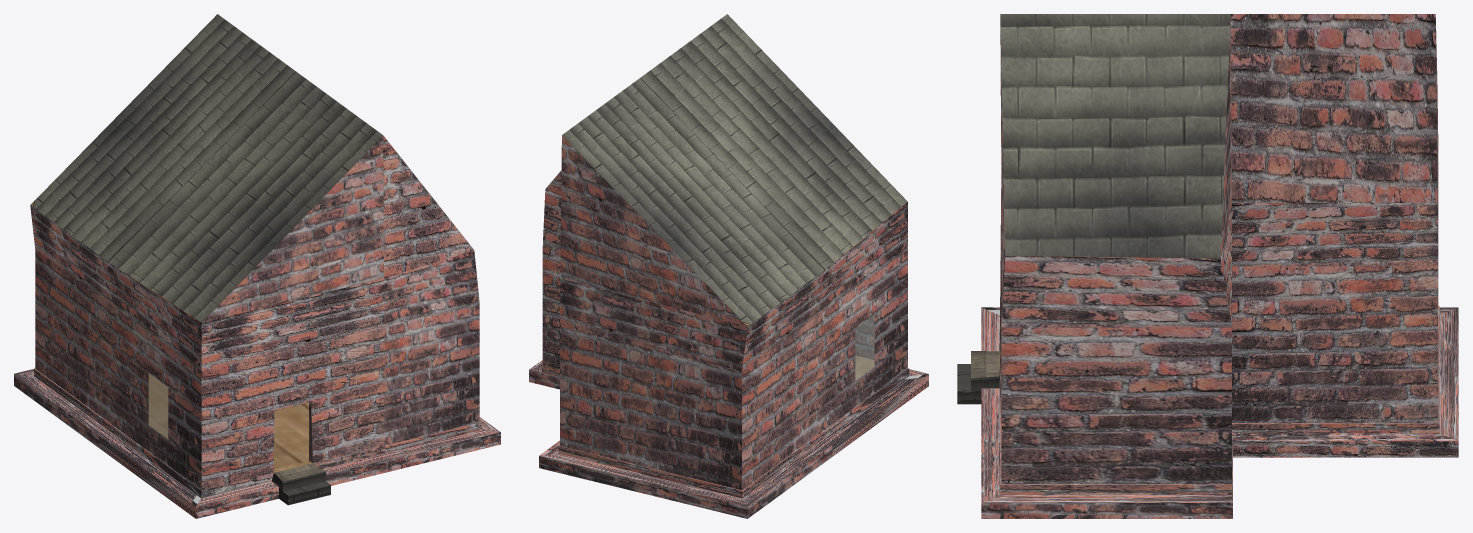
Rendered from bar.glb.
3 views of the same model, side by side, from view 1: azimuth 30°, elevation 25°; view 2: azimuth 150°, elevation 25°; view 3: azimuth 270°, elevation 25° (orthographic). The views are drawn at different scales.
Parts seen in each view (by area): view 1: building-col; view 2: building-col; view 3: building-col.
Part boxes in pixels (x1,y1,x2,y2): building-col: (14, 14, 500, 518); building-col: (529, 14, 928, 518); building-col: (957, 14, 1458, 518).
Bounding box in the file's own units: 14.16 × 14.68 × 15.35.
2 materials, 1 textured.
